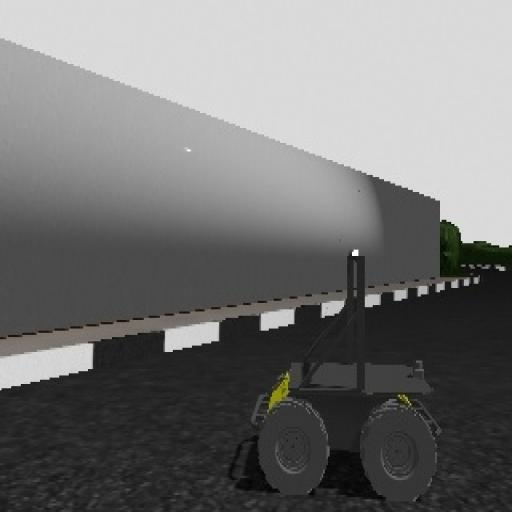huskya200: (198, 245, 442, 510)
